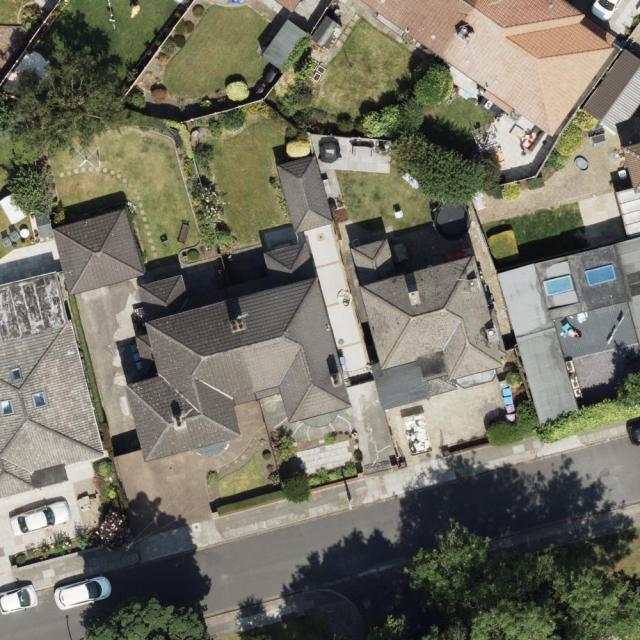roof: (125, 242, 354, 459), (496, 141, 640, 432), (358, 0, 640, 138), (350, 237, 505, 411), (0, 271, 108, 499), (54, 208, 148, 293), (279, 155, 335, 234)
skylight: (542, 274, 578, 298), (584, 262, 617, 287), (31, 390, 49, 410), (8, 364, 25, 384), (1, 398, 14, 418)
